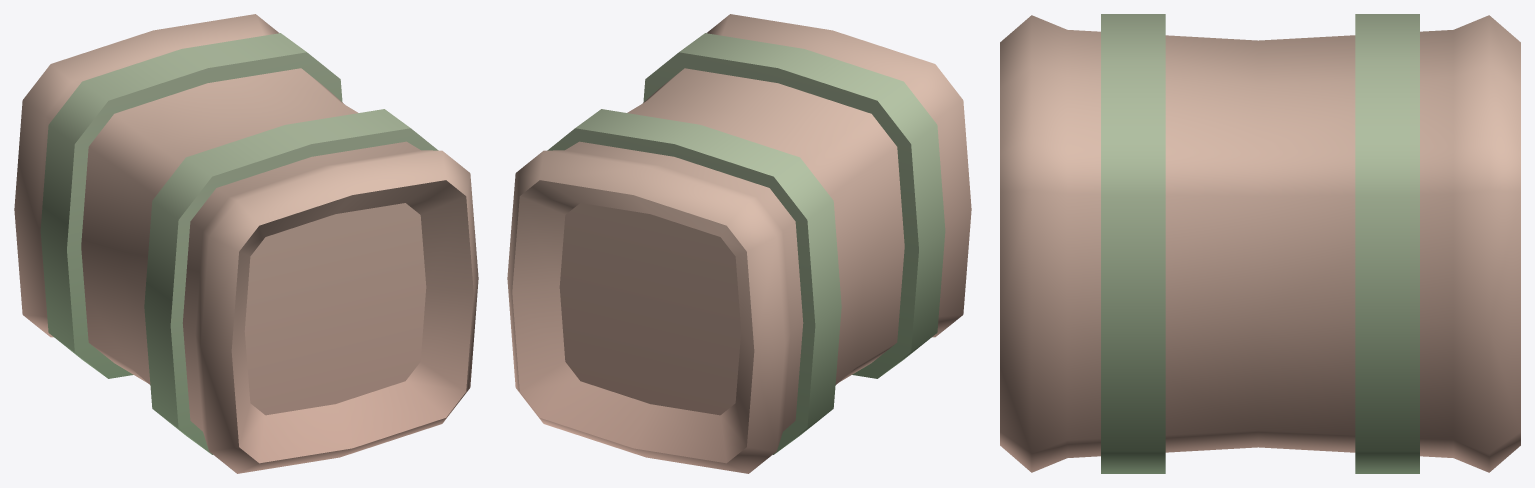
The model's file is hay-bale.glb.
3 views of the same model, side by side, from view 1: azimuth 30°, elevation 25°; view 2: azimuth 150°, elevation 25°; view 3: azimuth 270°, elevation 25° (orthographic). The views are drawn at different scales.
Parts seen in each view (by area): view 1: hay-bale; view 2: hay-bale; view 3: hay-bale.
Boxes of the visible parts, left/top/right/bottom form: hay-bale: left=14, top=14, right=478, bottom=473; hay-bale: left=507, top=14, right=971, bottom=473; hay-bale: left=1000, top=14, right=1520, bottom=473.
Size of the model in its own units: 0.474 by 0.474 by 0.6188.
